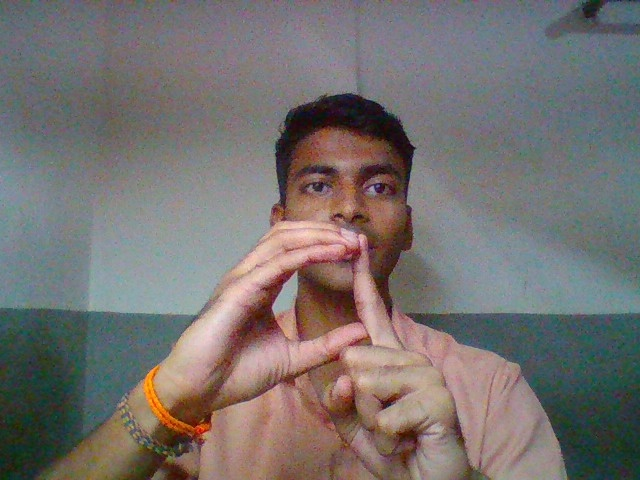D: (145, 211, 483, 480)
